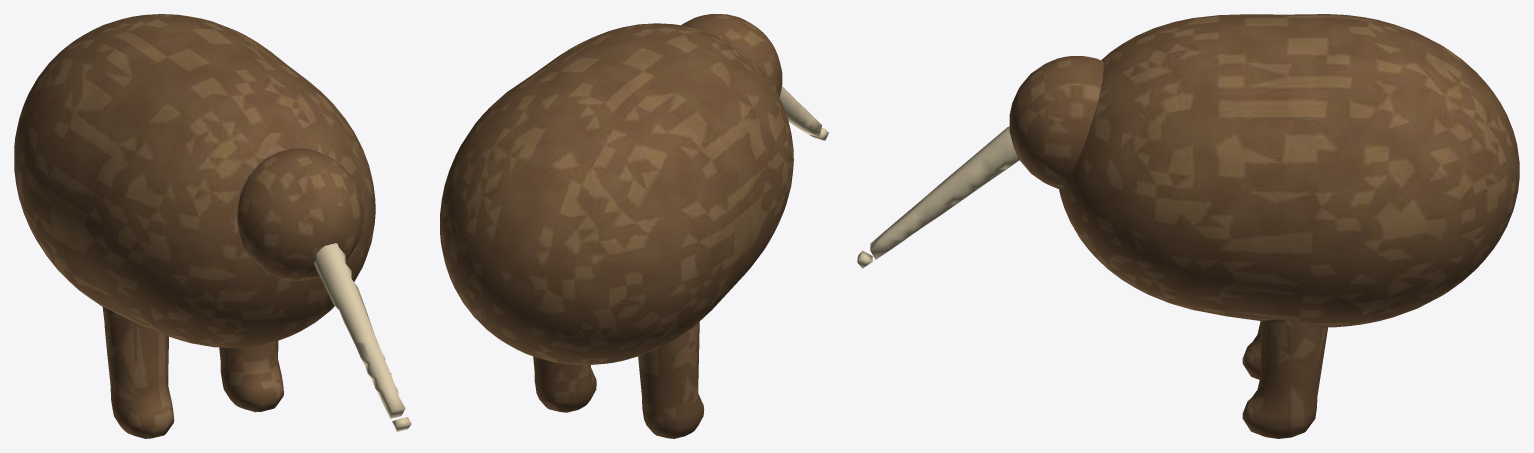
File: animal_kiwi_bird.glb
3 views of the same model, side by side, from view 1: azimuth 30°, elevation 25°; view 2: azimuth 150°, elevation 25°; view 3: azimuth 270°, elevation 25° (orthographic). The views are drawn at different scales.
Parts seen in each view (by area): view 1: animal_kiwi_bird, head, leg0, leg1; view 2: animal_kiwi_bird, leg0, head, leg1; view 3: animal_kiwi_bird, head, leg1, leg0.
Boxes of the visible parts, x1,y1,x2,y2 form: animal_kiwi_bird: [14, 14, 375, 347]; head: [237, 149, 411, 431]; leg0: [102, 307, 174, 438]; leg1: [219, 341, 283, 412]; animal_kiwi_bird: [440, 23, 793, 365]; leg0: [638, 322, 704, 438]; head: [681, 14, 828, 140]; leg1: [533, 356, 596, 412]; animal_kiwi_bird: [1059, 14, 1519, 327]; head: [857, 56, 1103, 268]; leg1: [1242, 319, 1327, 438]; leg0: [1242, 321, 1261, 379].
Bounding box in the file's own units: 0.1205 × 0.1614 × 0.255.
1 material, 1 textured.
